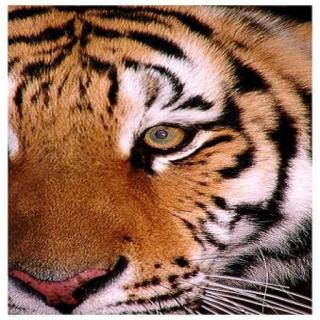Tiger: (8, 8, 312, 316)
